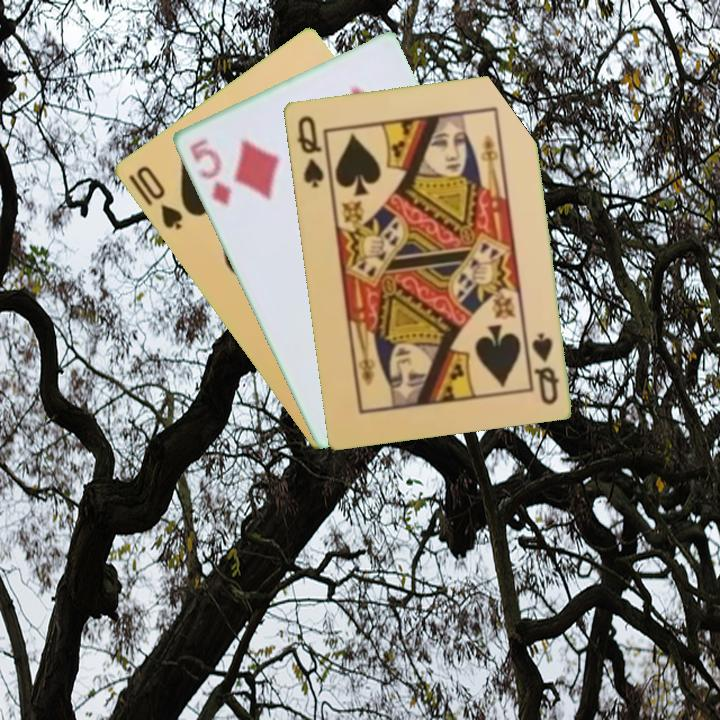10s: (124, 162, 185, 233)
5d: (185, 135, 234, 209)
Qs: (293, 112, 326, 190), (528, 329, 561, 407)
